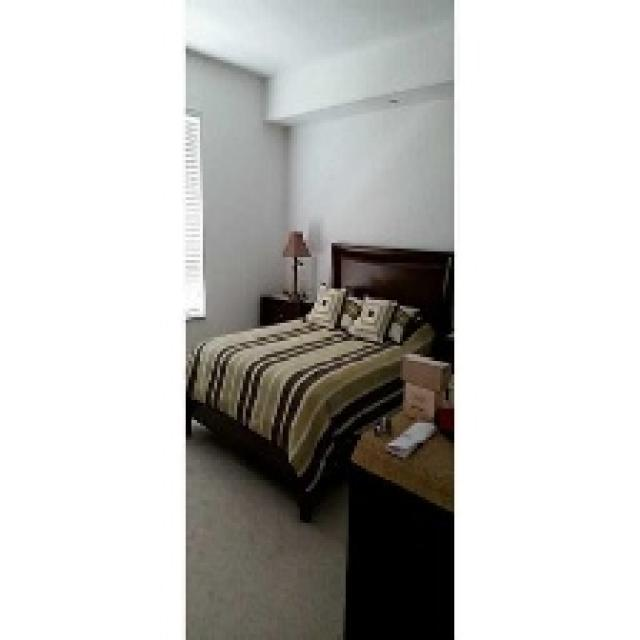Bed: (186, 240, 451, 520)
